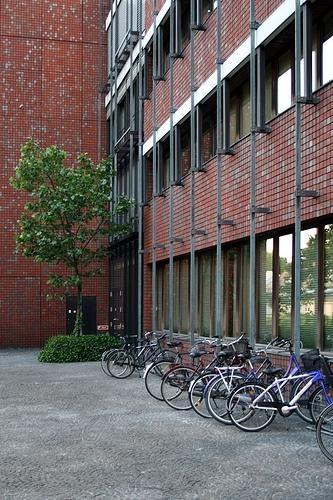bicycle: (226, 356, 333, 432), (202, 334, 280, 426), (160, 334, 245, 411), (143, 337, 227, 401), (188, 362, 246, 421), (106, 333, 177, 378), (100, 335, 140, 378), (317, 404, 333, 462)
